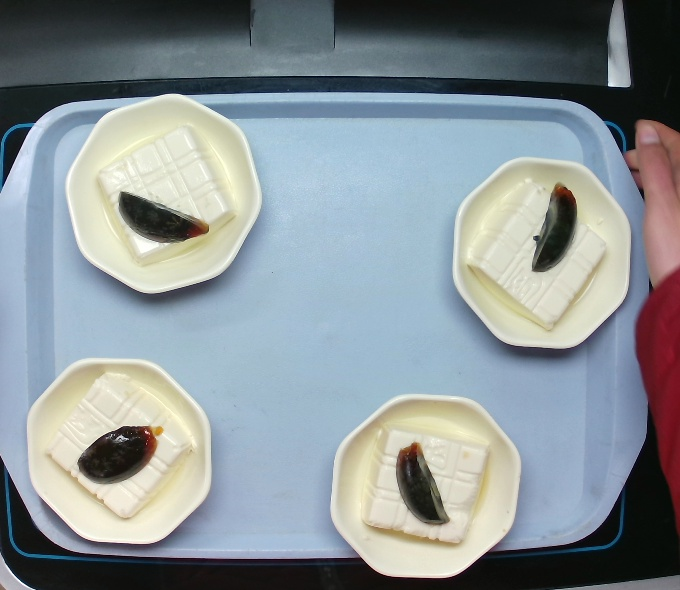wcq-PiDanDouFu: (41, 363, 199, 523), (460, 174, 610, 342), (84, 118, 236, 268), (355, 419, 493, 551)
